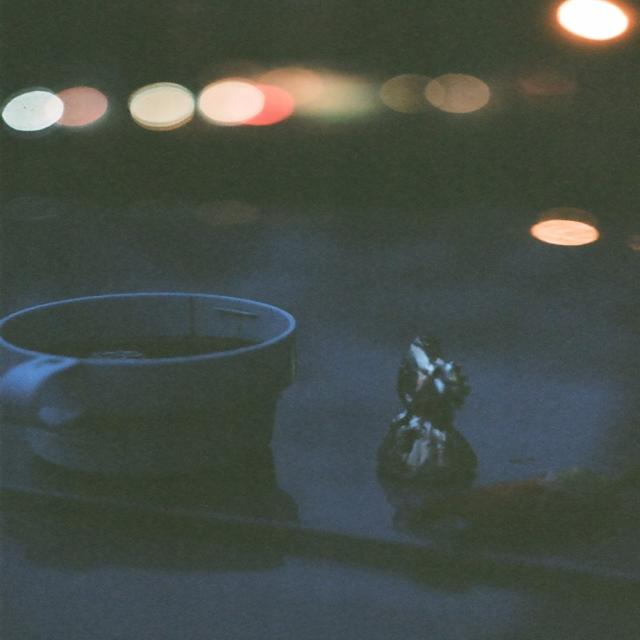Cup: (0, 290, 328, 491)
